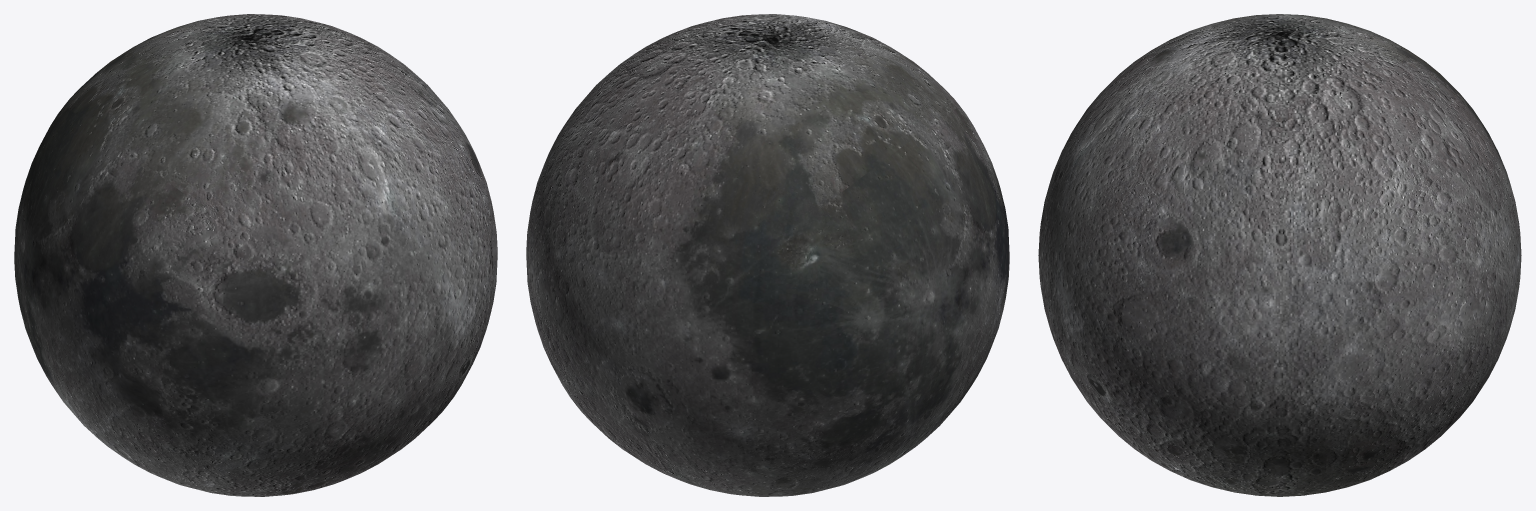
File: Moon_1_3474-processed.glb
3 renders of one model, left to right at view 1: azimuth 30°, elevation 25°; view 2: azimuth 150°, elevation 25°; view 3: azimuth 270°, elevation 25°, orthographic.
Parts seen in each view (by area): view 1: Cube.008; view 2: Cube.008; view 3: Cube.008.
Part boxes in pixels (box(x1,y1,x2,y2)): Cube.008: box(14, 14, 497, 496); Cube.008: box(526, 14, 1009, 496); Cube.008: box(1038, 14, 1521, 496).
Size of the model in its own units: 1000 by 999 by 1000.
1 material, 1 textured.
